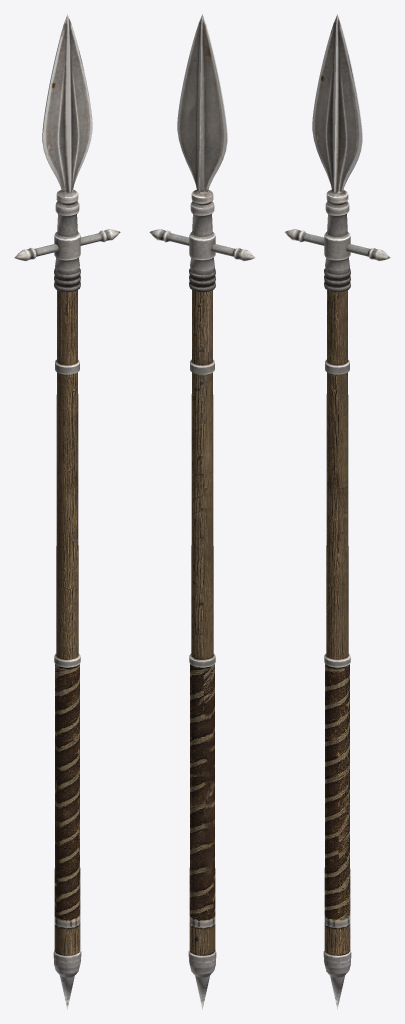
Rendered from w_spear_t1.glb.
3 renders of one model, left to right at view 1: azimuth 30°, elevation 25°; view 2: azimuth 150°, elevation 25°; view 3: azimuth 330°, elevation 25°, orthographic.
Parts seen in each view (by area): view 1: w_spear; view 2: w_spear; view 3: w_spear.
Boxes of the visible parts, box(x1,y1,x2,y2) form: w_spear: box(14, 14, 120, 1009); w_spear: box(149, 14, 255, 1009); w_spear: box(284, 14, 390, 1009).
Bounding box in the file's own units: 13.2 × 118 × 2.96.
1 material, 1 textured.
